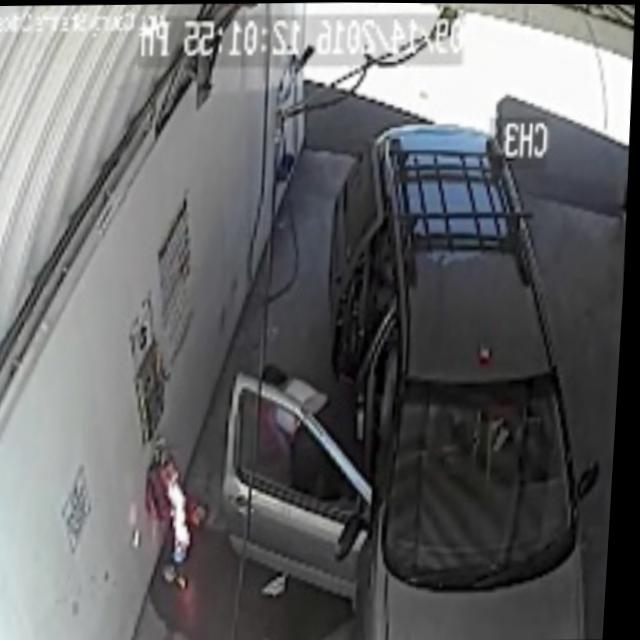fire: (167, 477, 196, 554)
